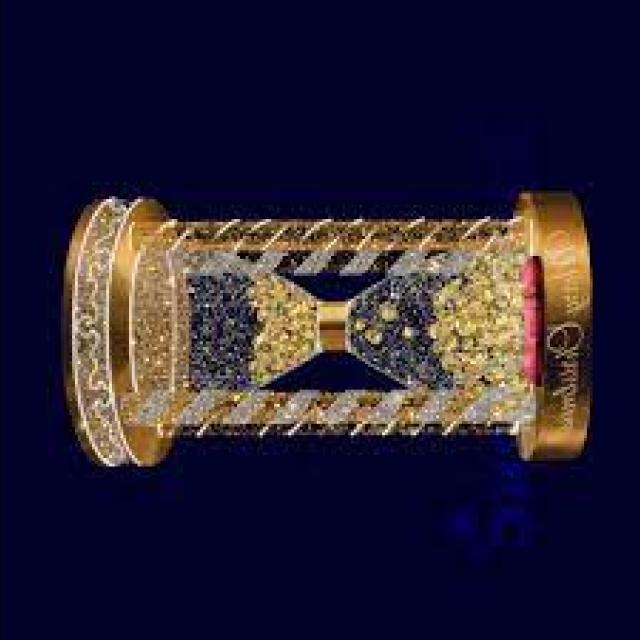clock: (57, 173, 602, 471)
